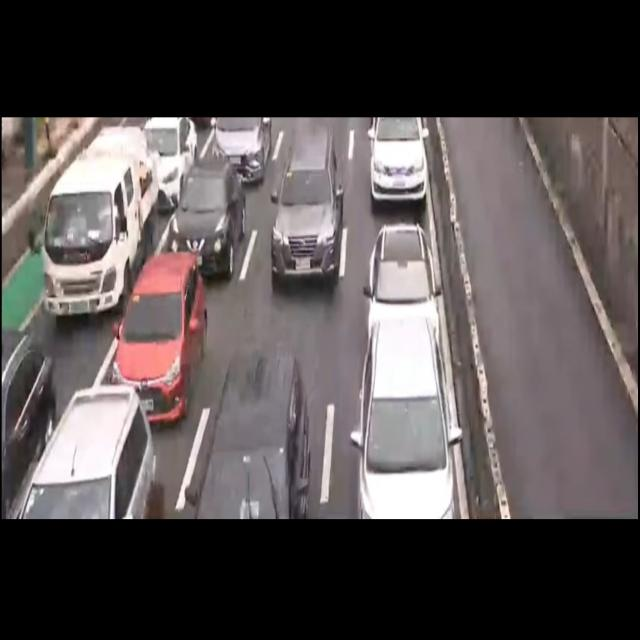SUV: (355, 324, 467, 526), (188, 351, 308, 522), (19, 387, 158, 517), (363, 220, 445, 358), (274, 136, 344, 284), (371, 118, 425, 203)
Sedan: (112, 256, 210, 424), (168, 164, 246, 283), (0, 326, 48, 511)
Truck: (31, 129, 161, 323)
